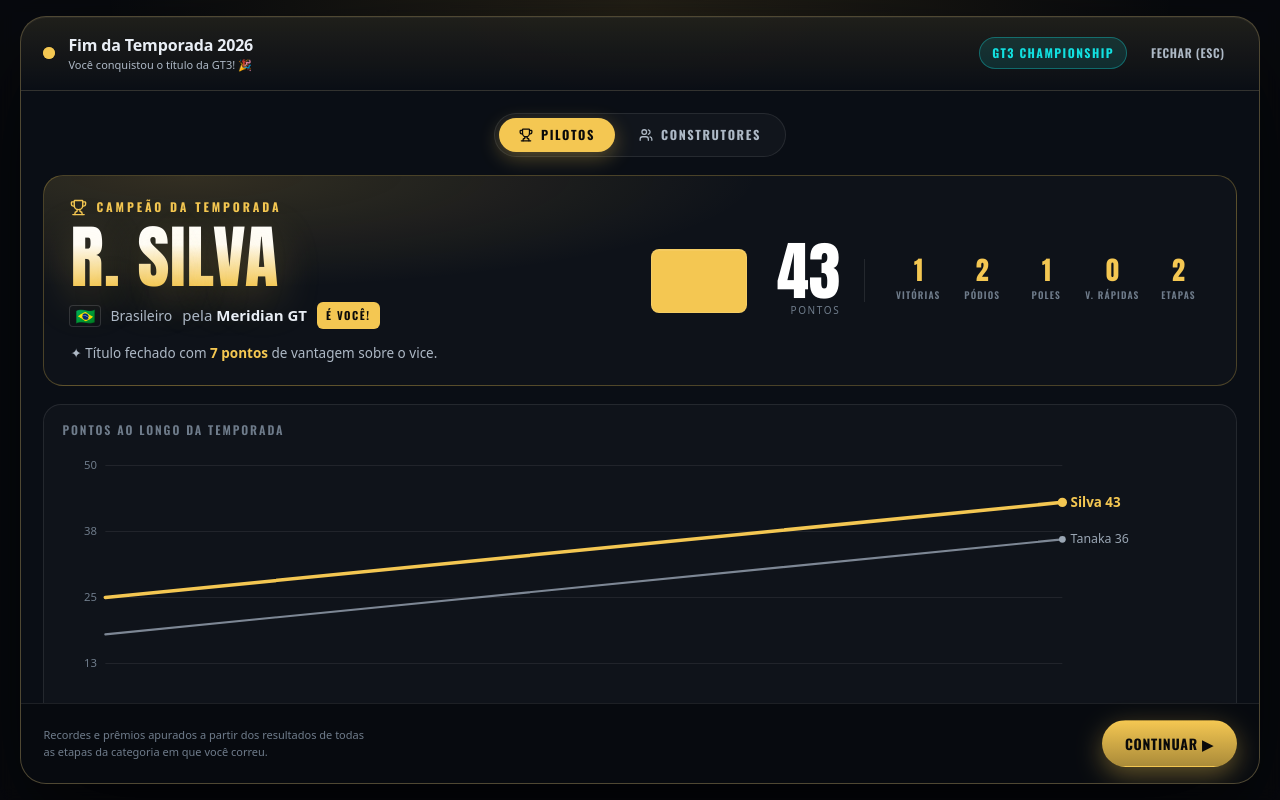
Scenario: SeasonChampionOverlay › monta o campeonato de construtores com o líder e a equipe do jogador marcados
Click the tab "Construtores" at x=700, y=135, box [619, 118, 781, 152]
(page scrolled)
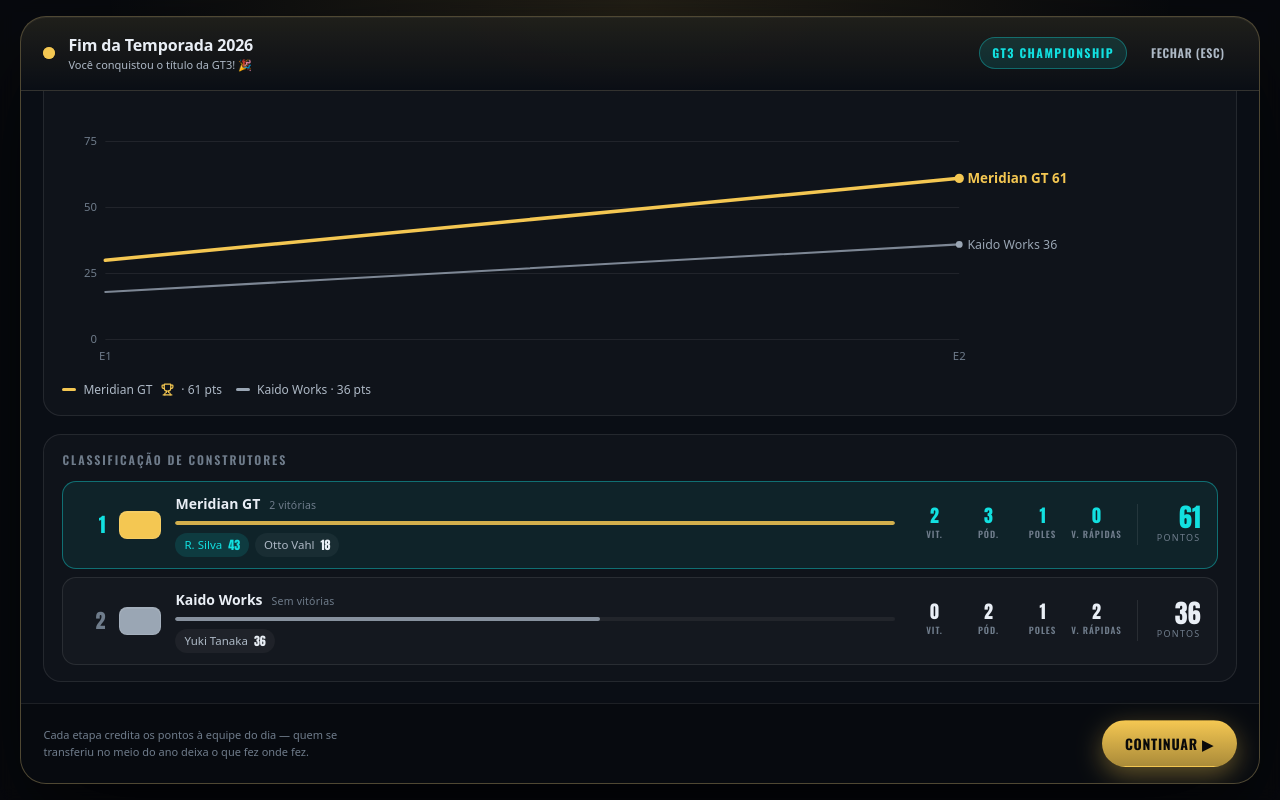
Result: the element with class "co-crow" shows "Meridian GT" at [176, 494, 260, 513]
Result: the text "61" is shown at [1179, 497, 1201, 537]
Result: the text "2 vitórias" is shown at [269, 498, 316, 513]
